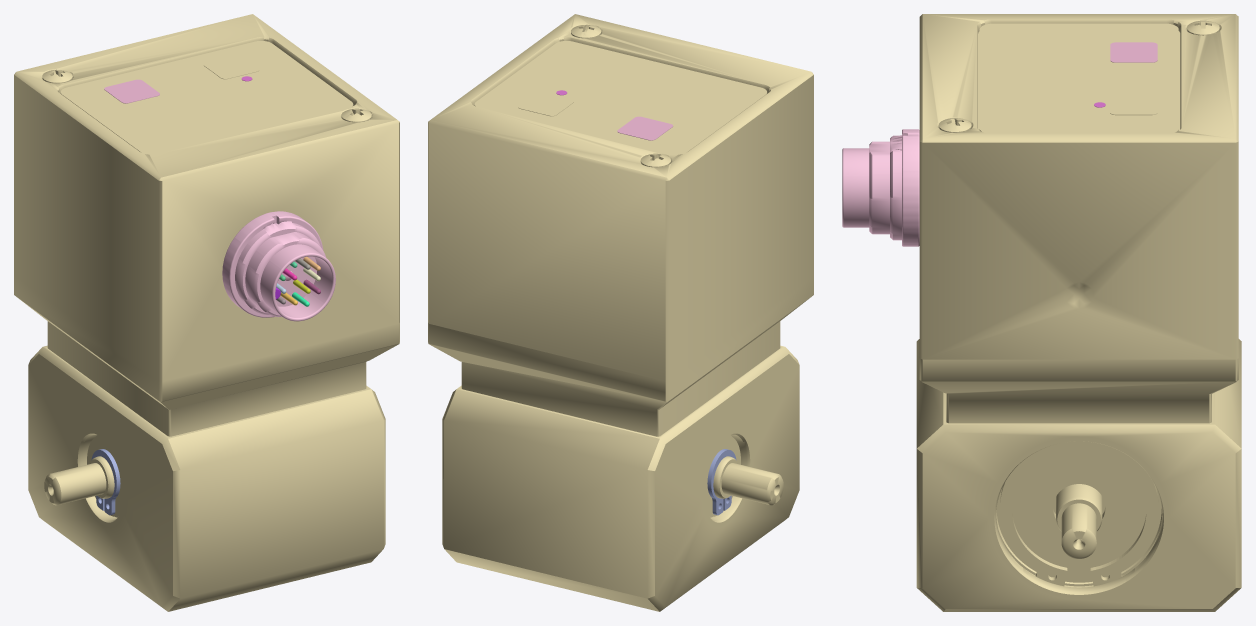
3 views of the same model, side by side, from view 1: azimuth 30°, elevation 25°; view 2: azimuth 150°, elevation 25°; view 3: azimuth 270°, elevation 25° (orthographic). The views are drawn at different scales.
Visible parts, largest first — view 1: split_parent_0, split_parent_4, XDDK-A-0,5-2-167.007_metal central_0.085, XDDK-A-0,5-2-167.007_2_0.010; view 2: split_parent_0, XDDK-A-0,5-2-167.007_metal central_0.085, XDDK-A-0,5-2-167.007_2_0.010; view 3: split_parent_0, split_parent_4, XDDK-A-0,5-2-167.007_metal central_0.085.
Boxes of the visible parts, x1,y1,x2,y2 form: split_parent_0: (14, 14, 399, 611); split_parent_4: (222, 211, 335, 321); XDDK-A-0,5-2-167.007_metal central_0.085: (104, 79, 159, 103); XDDK-A-0,5-2-167.007_2_0.010: (91, 449, 120, 515); split_parent_0: (428, 14, 813, 611); XDDK-A-0,5-2-167.007_metal central_0.085: (617, 116, 672, 140); XDDK-A-0,5-2-167.007_2_0.010: (707, 449, 736, 515); split_parent_0: (916, 14, 1241, 611); split_parent_4: (842, 129, 919, 246); XDDK-A-0,5-2-167.007_metal central_0.085: (1110, 42, 1157, 62).
Size of the model in its own units: 0.7276 by 1 by 0.7453.
